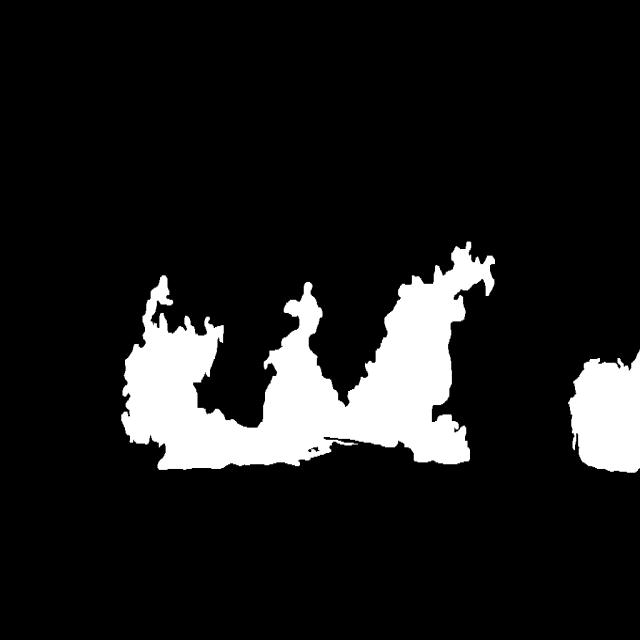fire: (127, 272, 494, 517)
